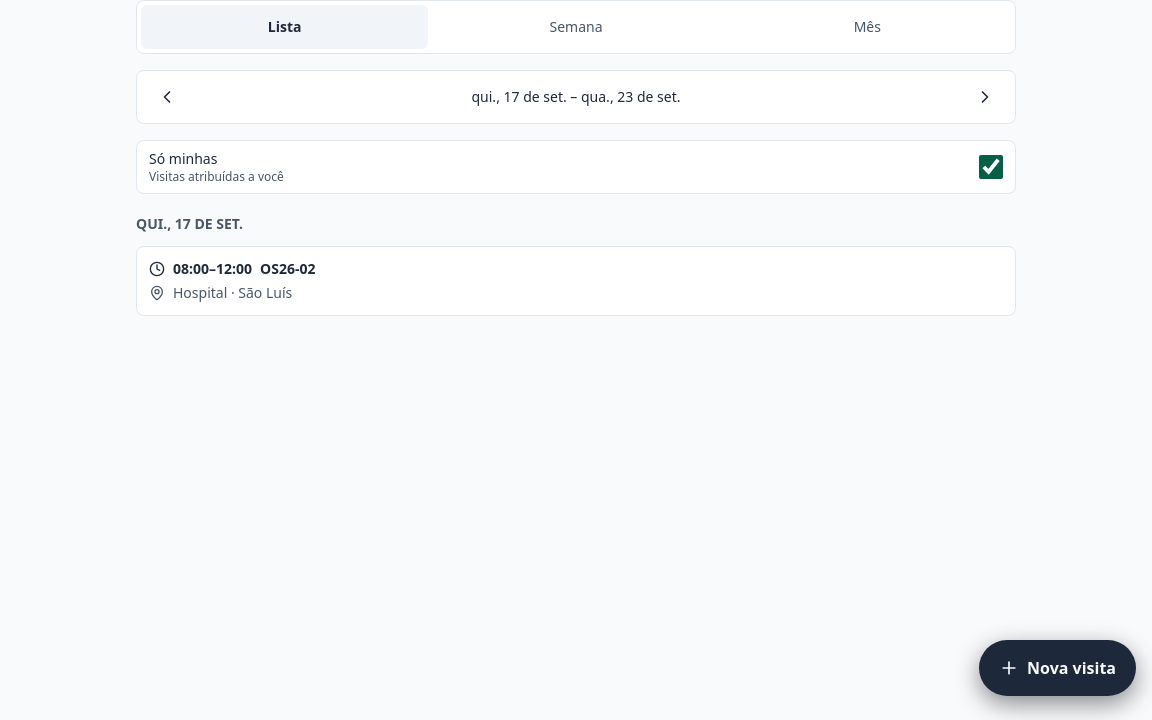
Modo Semana › rede de segurança: visita em ajuste que SOME do payload fecha o diálogo pendente de confirmação de data
The image size is (1152, 720).
Step 1. Click the button "Semana" → (576, 27), box top-left (432, 5), bottom-right (720, 49)
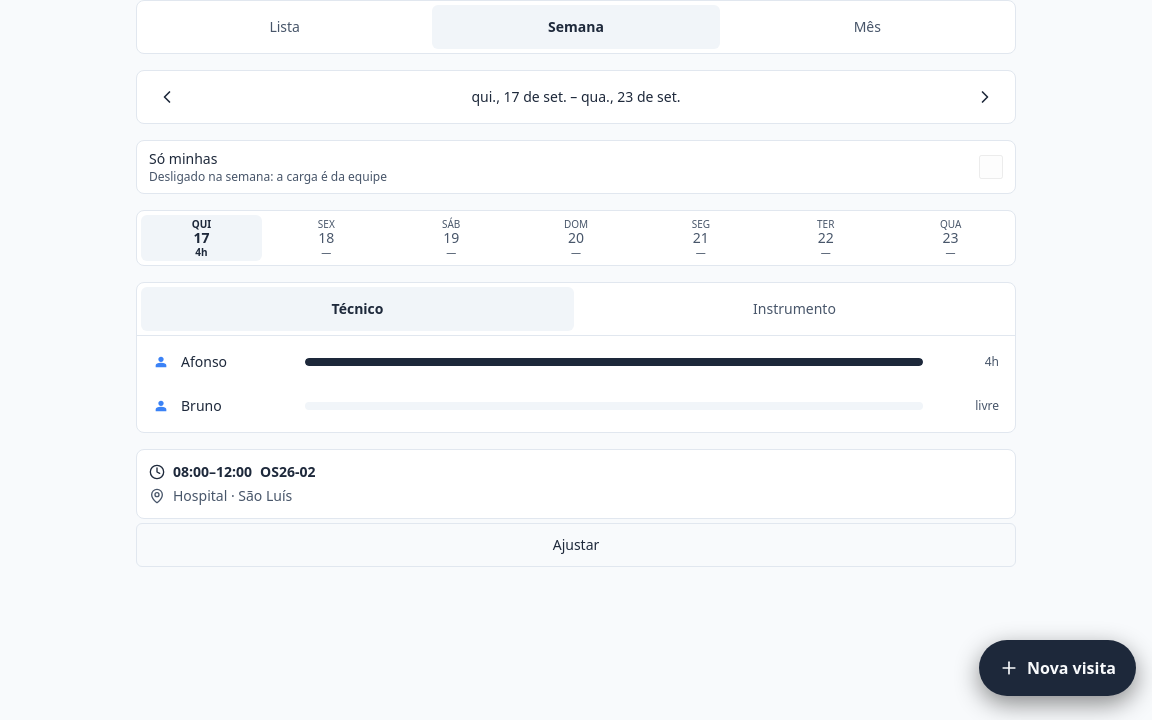
Step 2. Click the button "Ajustar" → (576, 544), box top-left (136, 522), bottom-right (1016, 566)
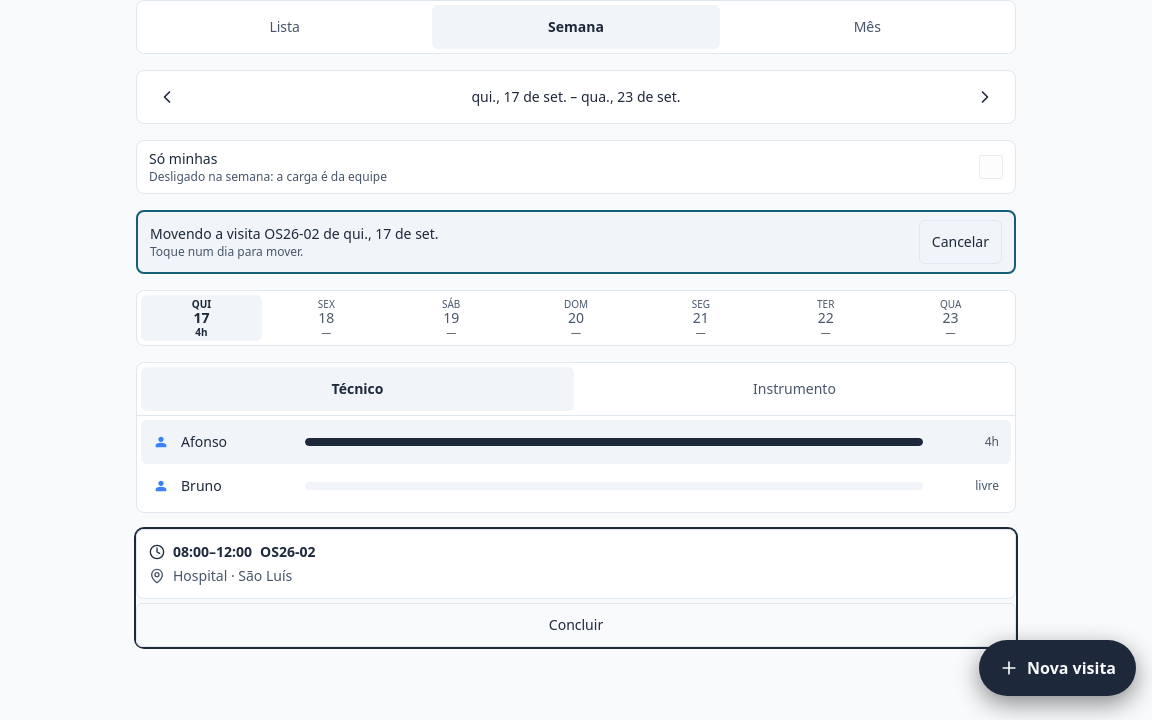
Step 3. Click the button "sáb 19 —" → (451, 318), box top-left (391, 295), bottom-right (512, 340)
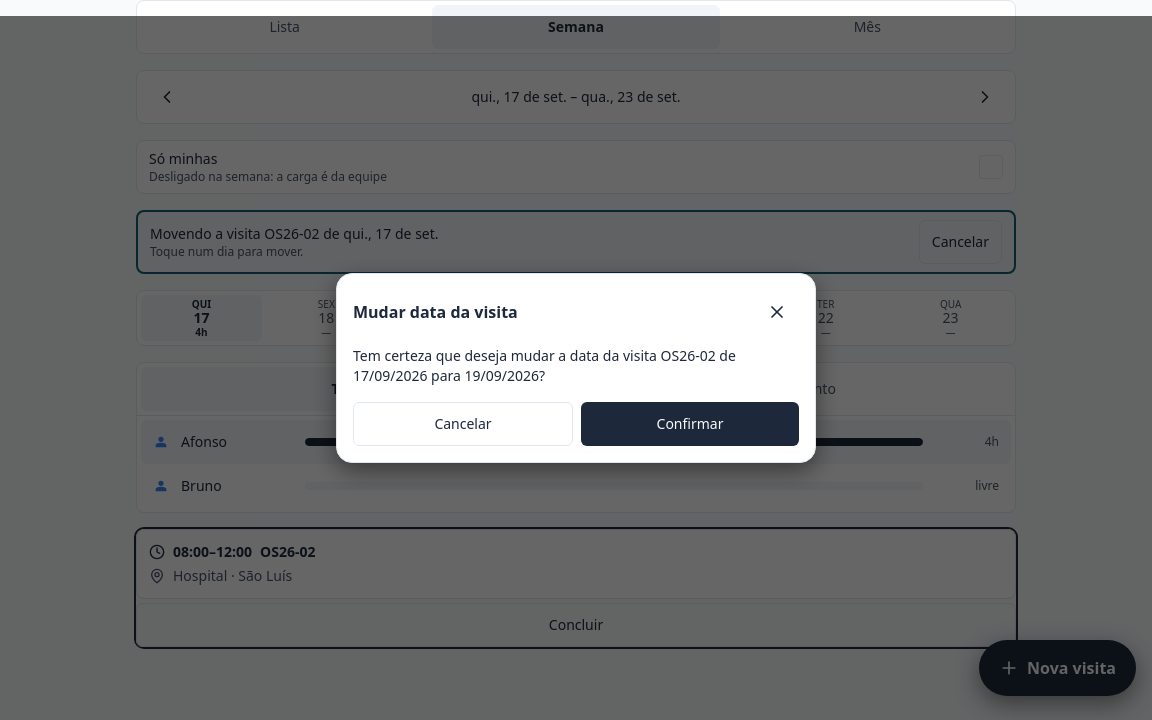
Expected: the dialog "Mudar data da visita" is shown, top-left (336, 273), bottom-right (816, 463)
